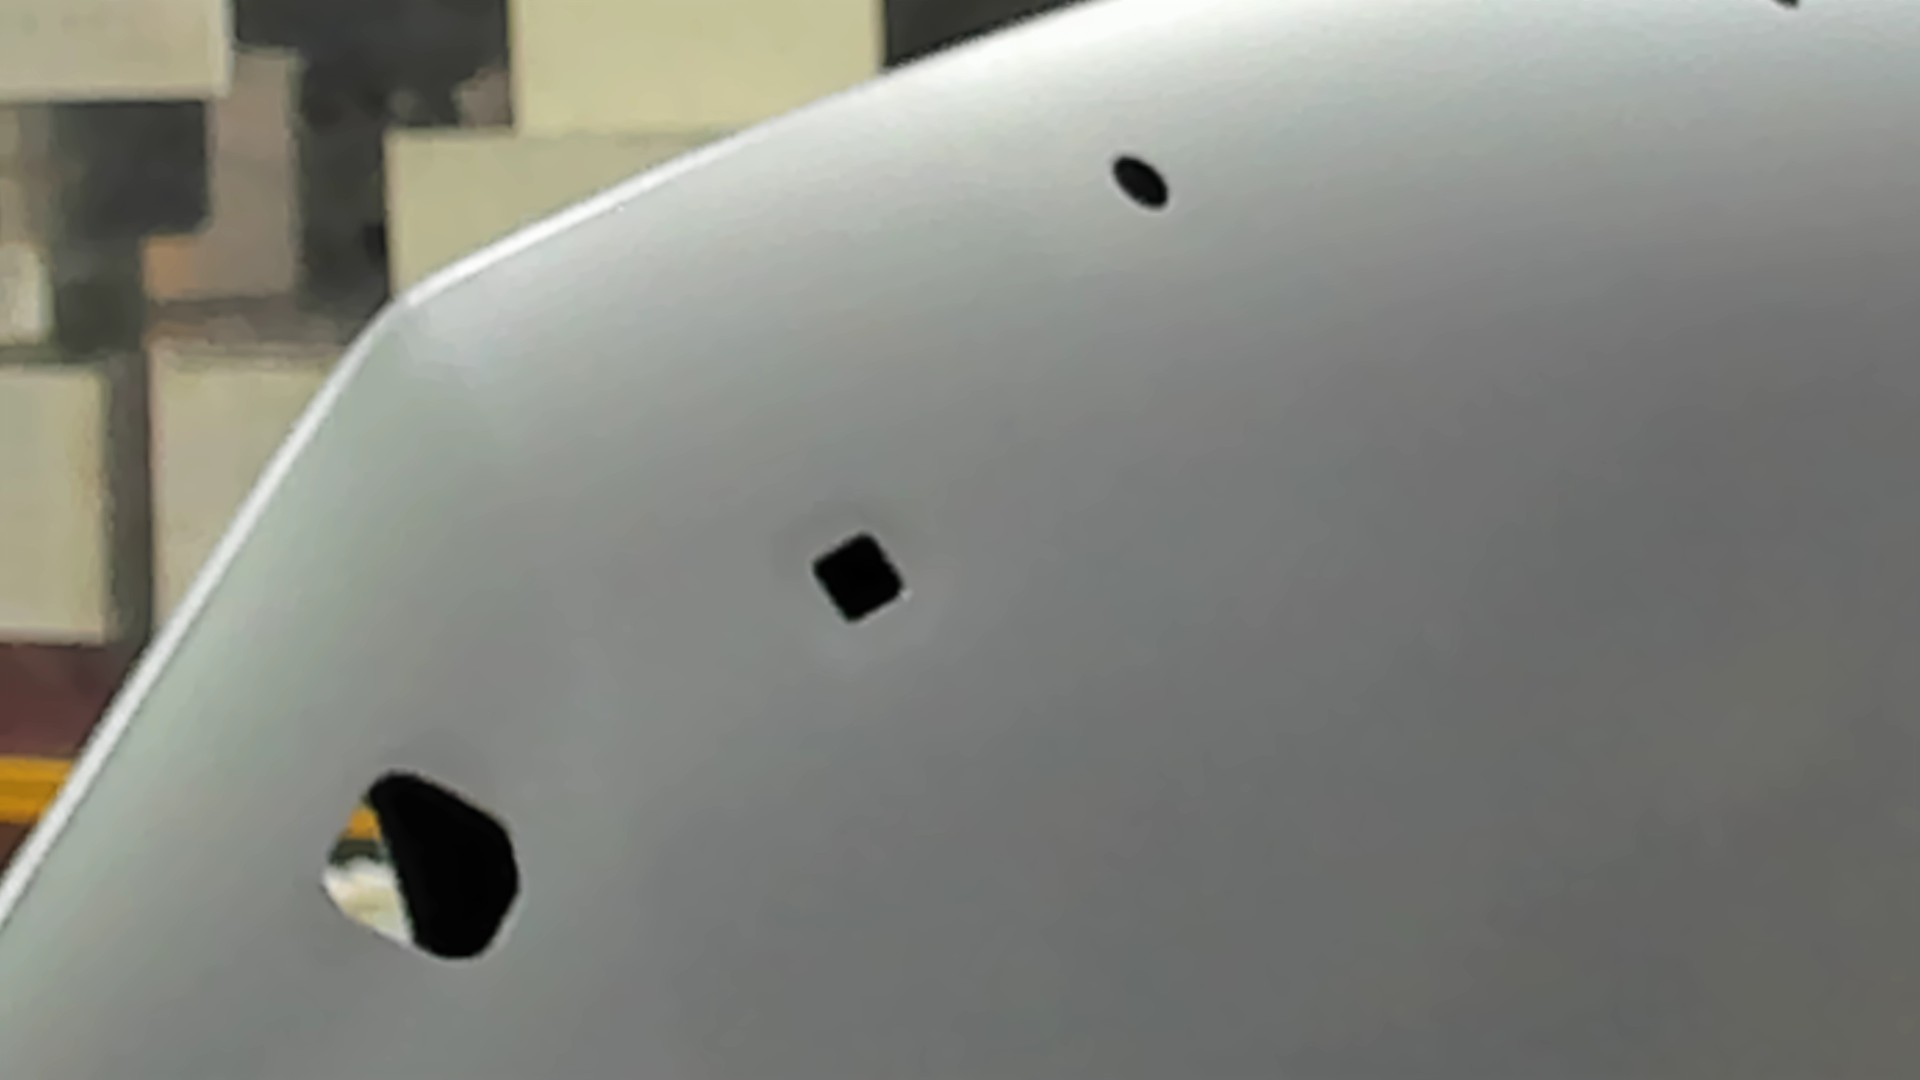chico: (1109, 149, 1175, 219)
grande: (311, 767, 534, 971)
mediano: (804, 526, 911, 632)
